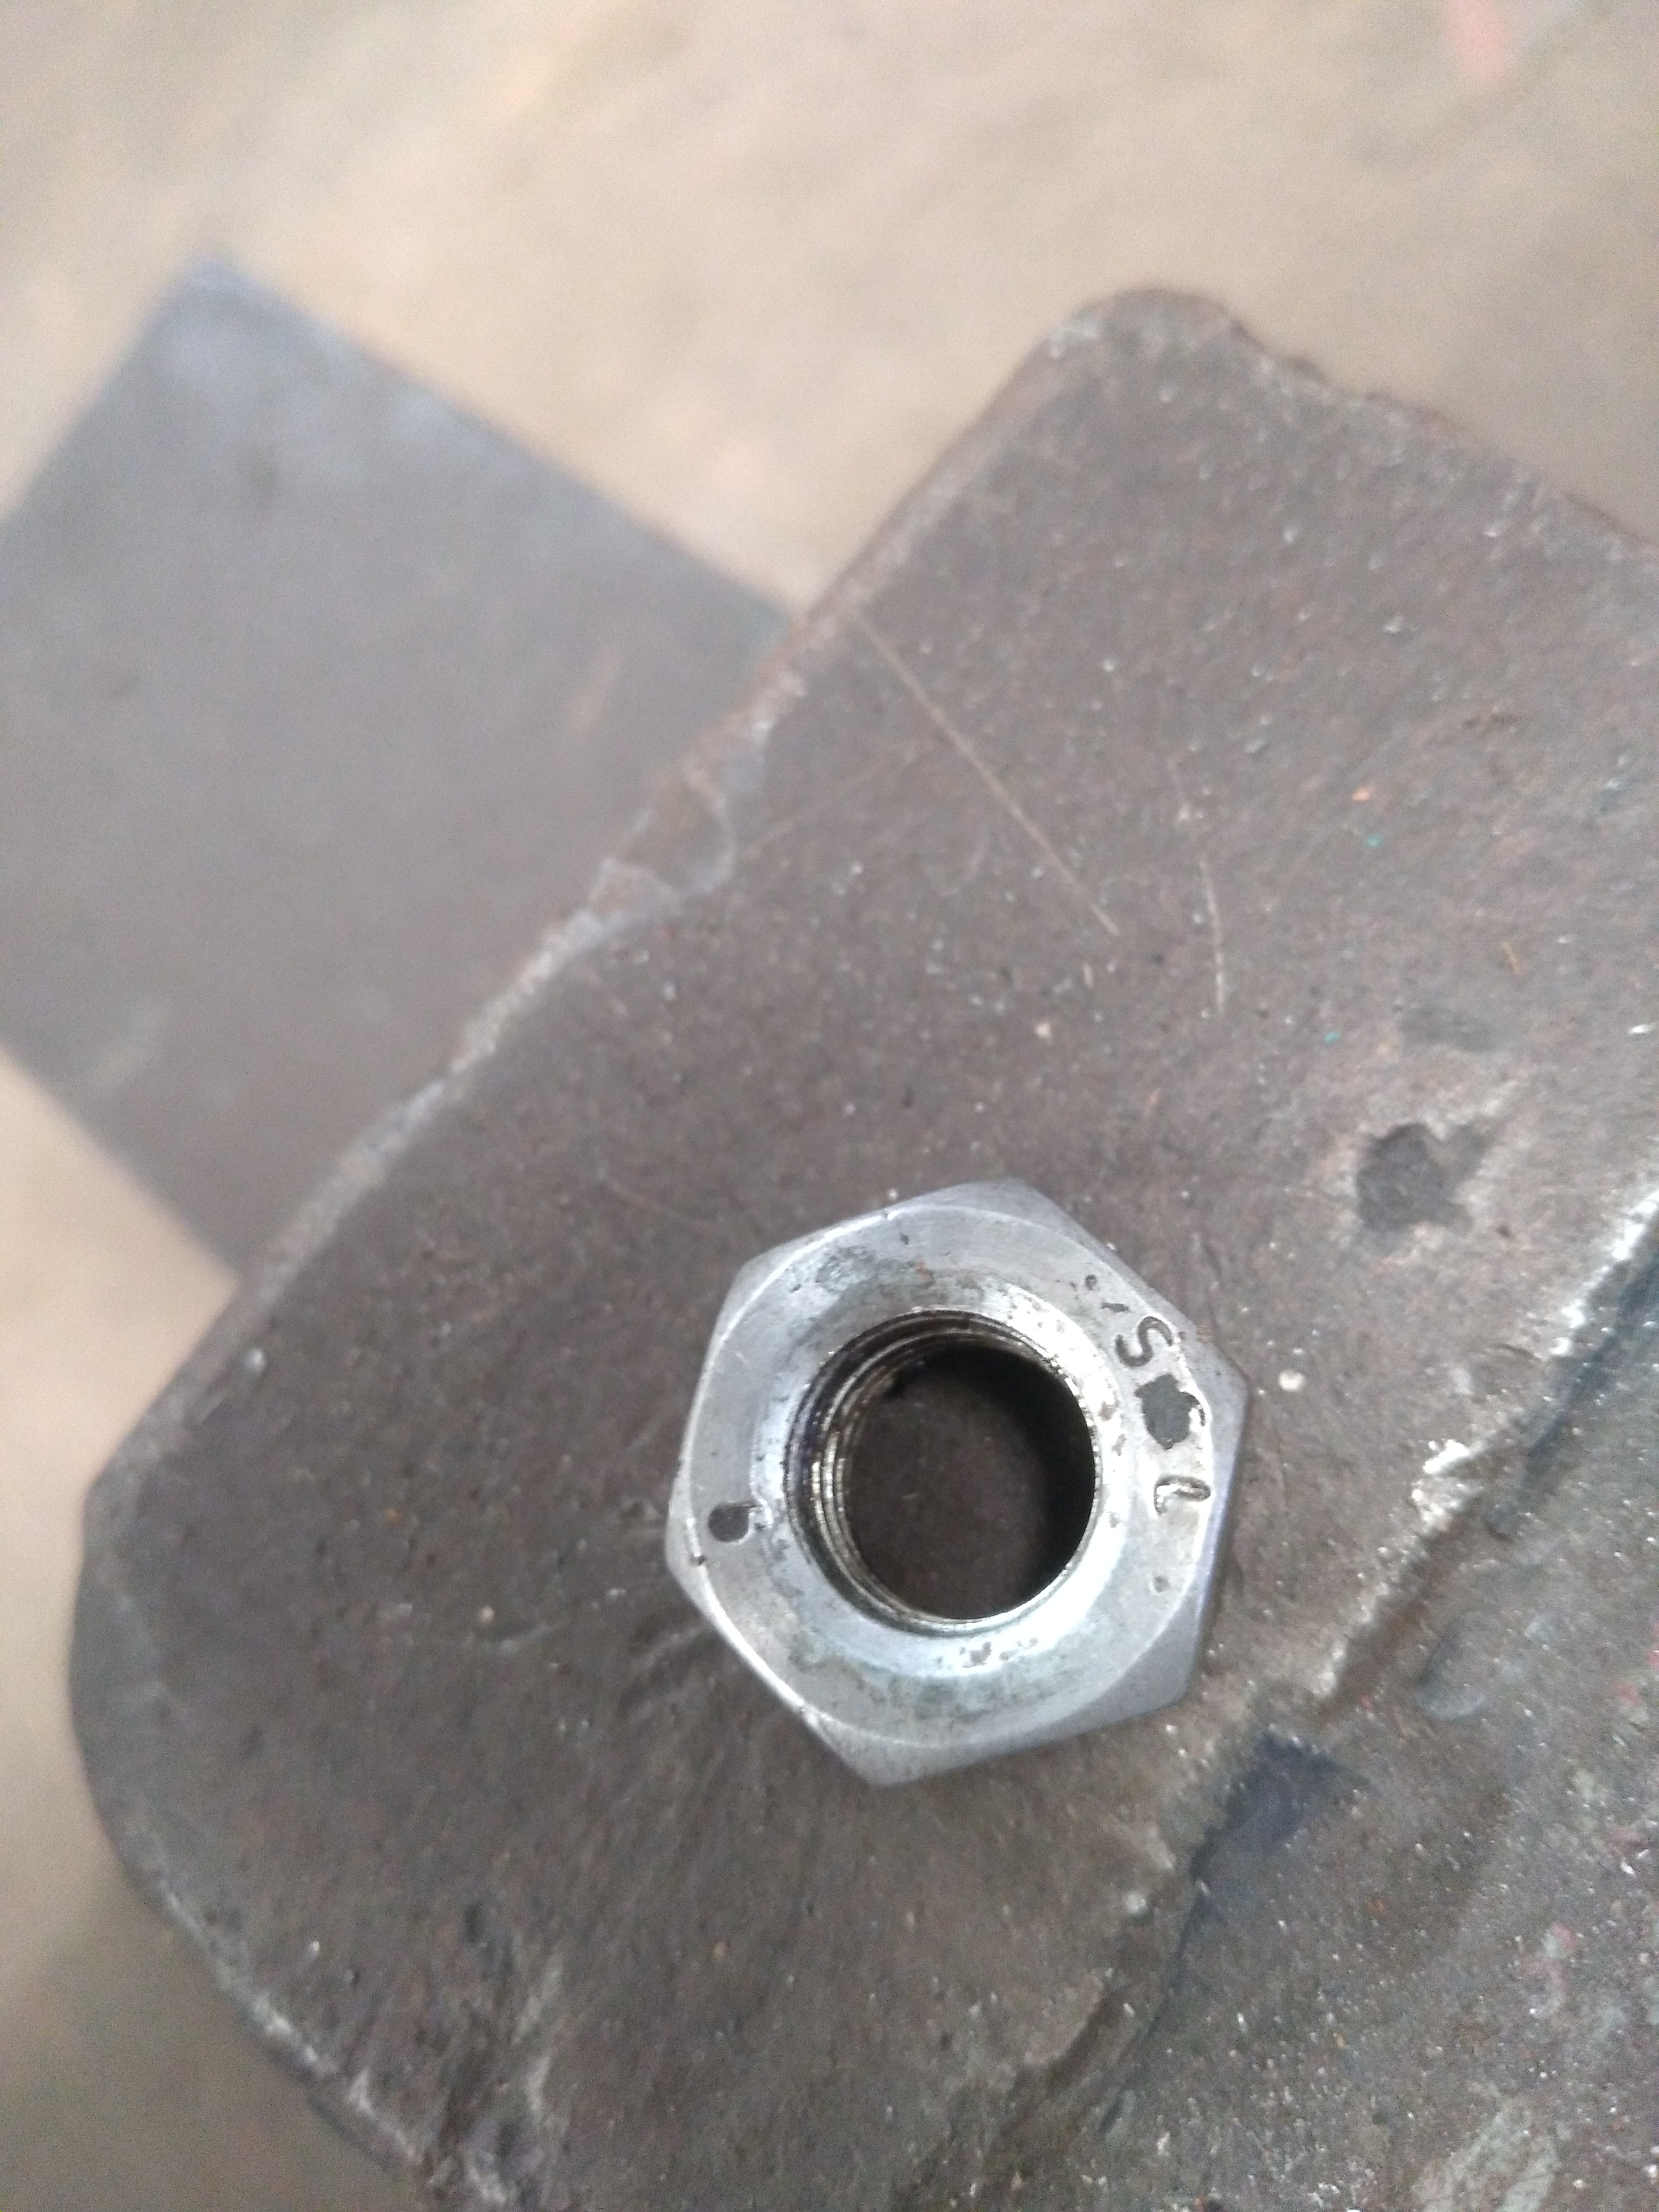Thread: (751, 1230, 1154, 1691)
